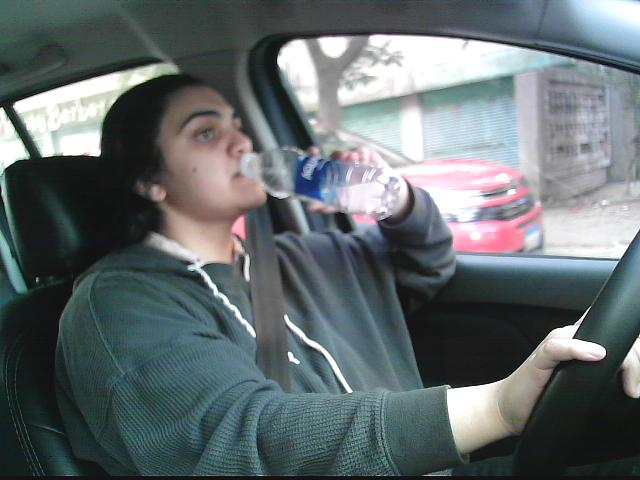Drinking: (241, 143, 403, 219)
